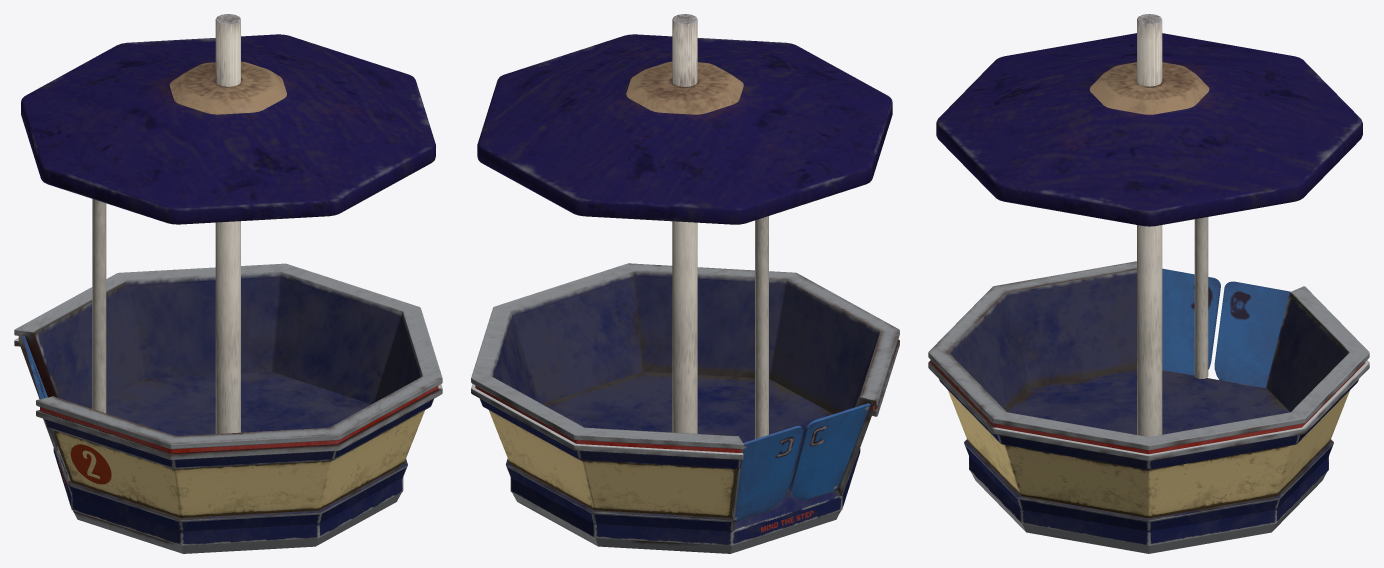
The model's file is yeet.glb.
3 renders of one model, left to right at view 1: azimuth 30°, elevation 25°; view 2: azimuth 150°, elevation 25°; view 3: azimuth 270°, elevation 25°, orthographic.
Parts seen in each view (by area): view 1: Car Main.001; view 2: Car Main.001; view 3: Car Main.001.
Boxes of the visible parts, bbox=[...] form: Car Main.001: bbox=[14, 14, 442, 553]; Car Main.001: bbox=[471, 14, 899, 553]; Car Main.001: bbox=[928, 14, 1369, 553].
Size of the model in its own units: 2.35 by 2.88 by 2.35.
1 material, 1 textured.
